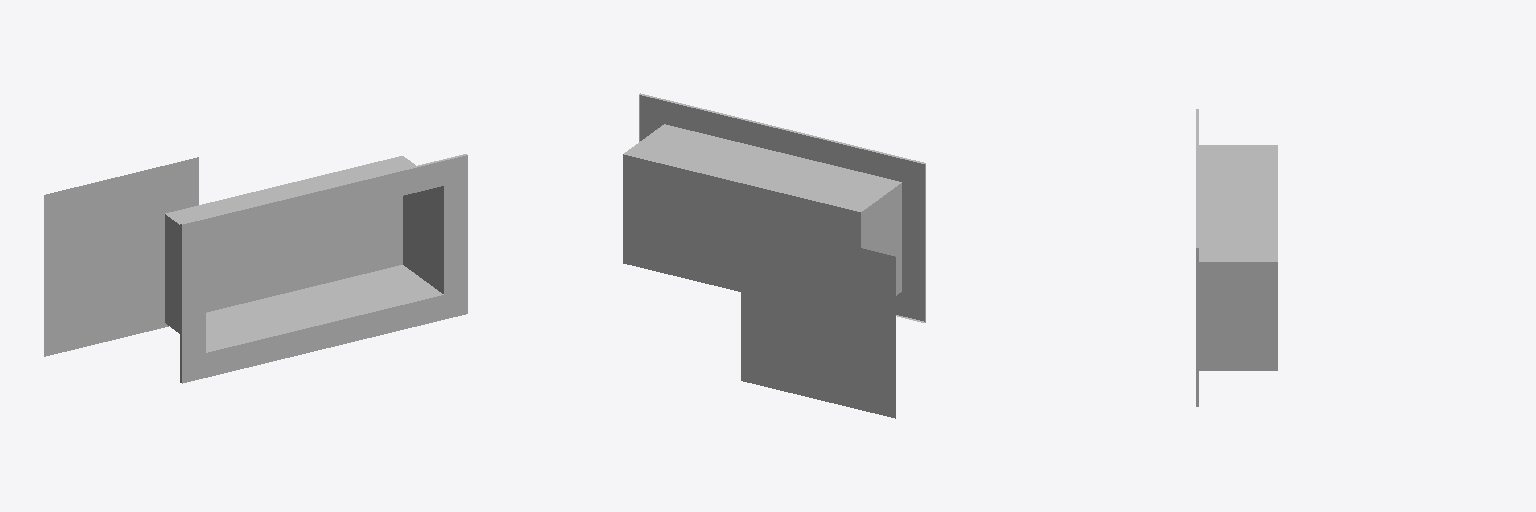
Rendered from Fireplace__3.obj.
3 views of the same model, side by side, from view 1: azimuth 30°, elevation 25°; view 2: azimuth 150°, elevation 25°; view 3: azimuth 270°, elevation 25° (orthographic).
Visible parts, largest first — view 1: grp3; view 2: grp3; view 3: grp3.
Boxes of the visible parts, box(x1,y1,x2,y2) form: grp3: box(44, 154, 467, 383); grp3: box(623, 93, 925, 418); grp3: box(1196, 109, 1277, 406).
Size of the model in its own units: 57 by 29 by 24.5.